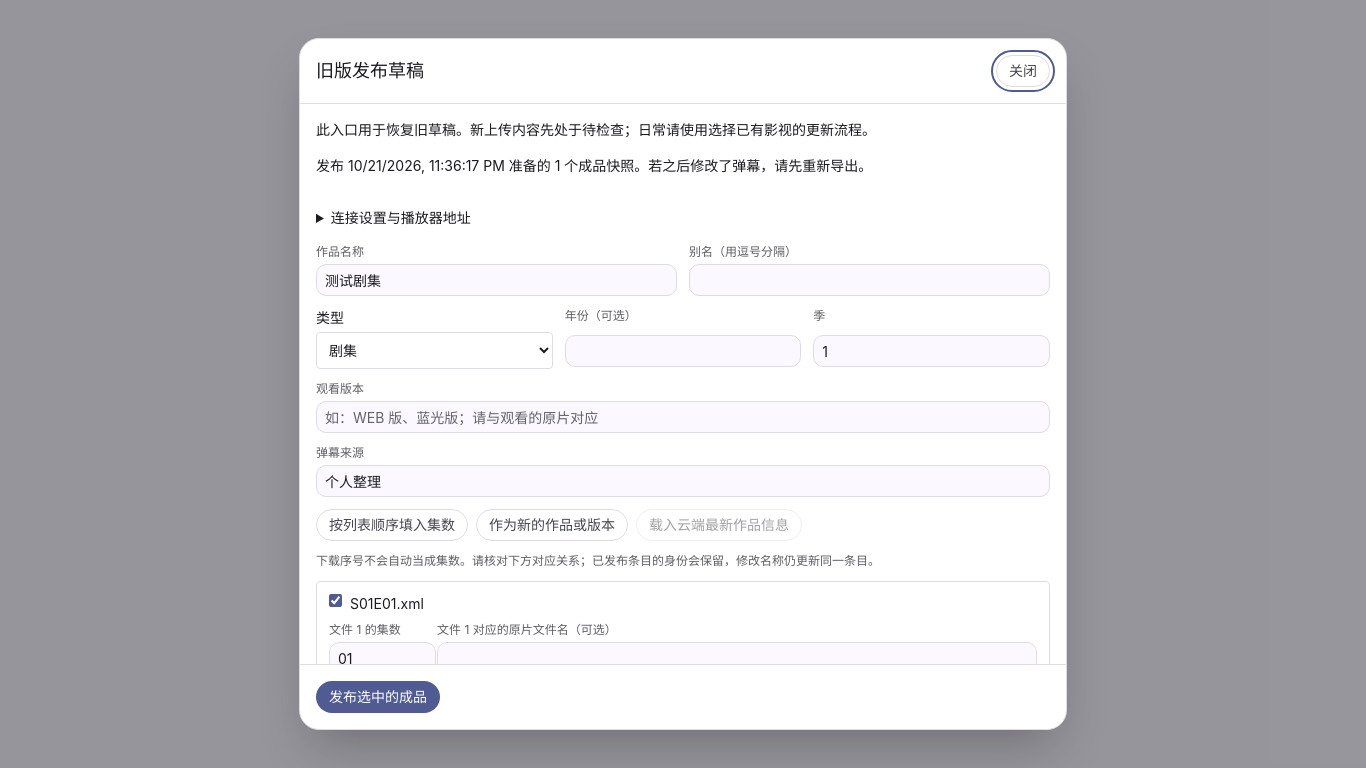
private library publication › prevents a second publish and closing while a file is in flight
Type "WEB" into the field labelled "观看版本" at (683, 417), box [316,401,1050,433]
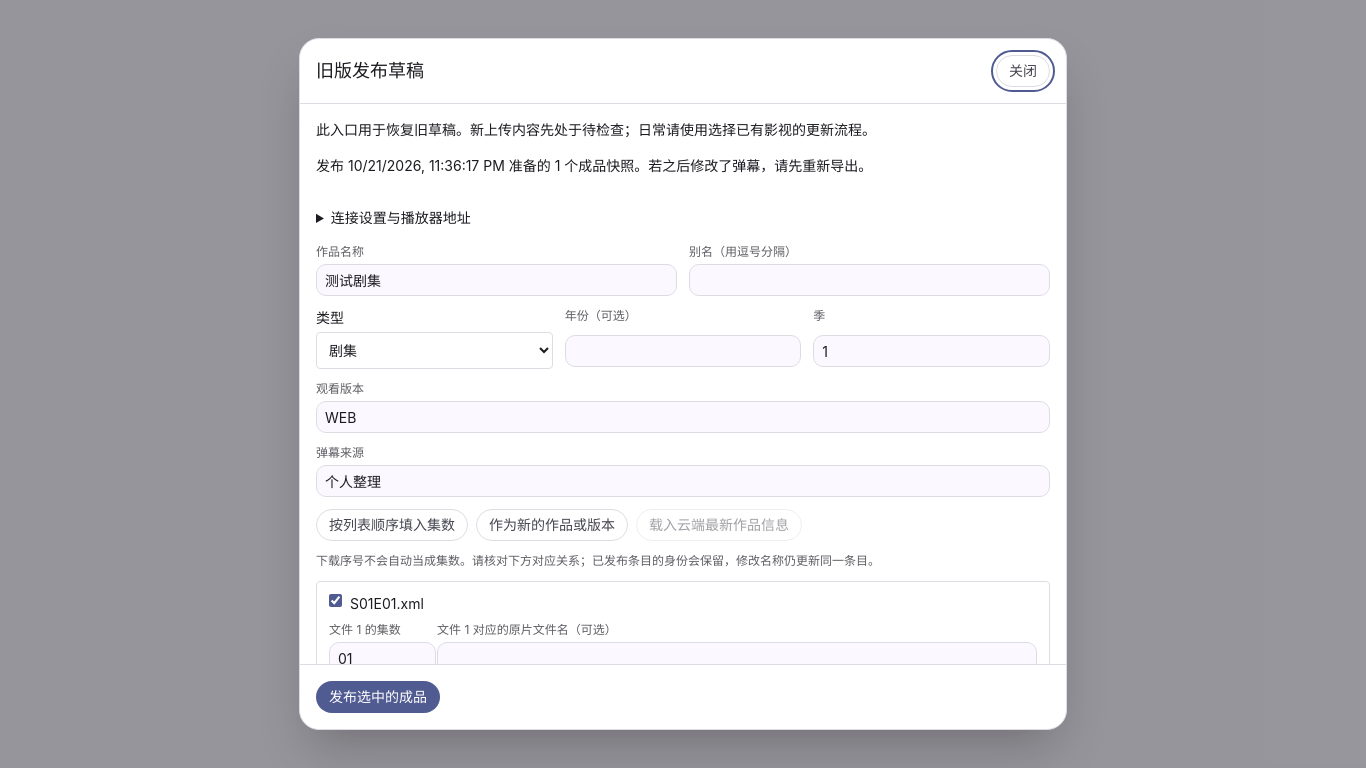
Click the button "发布选中的成品" at (378, 697), box [316,681,440,713]
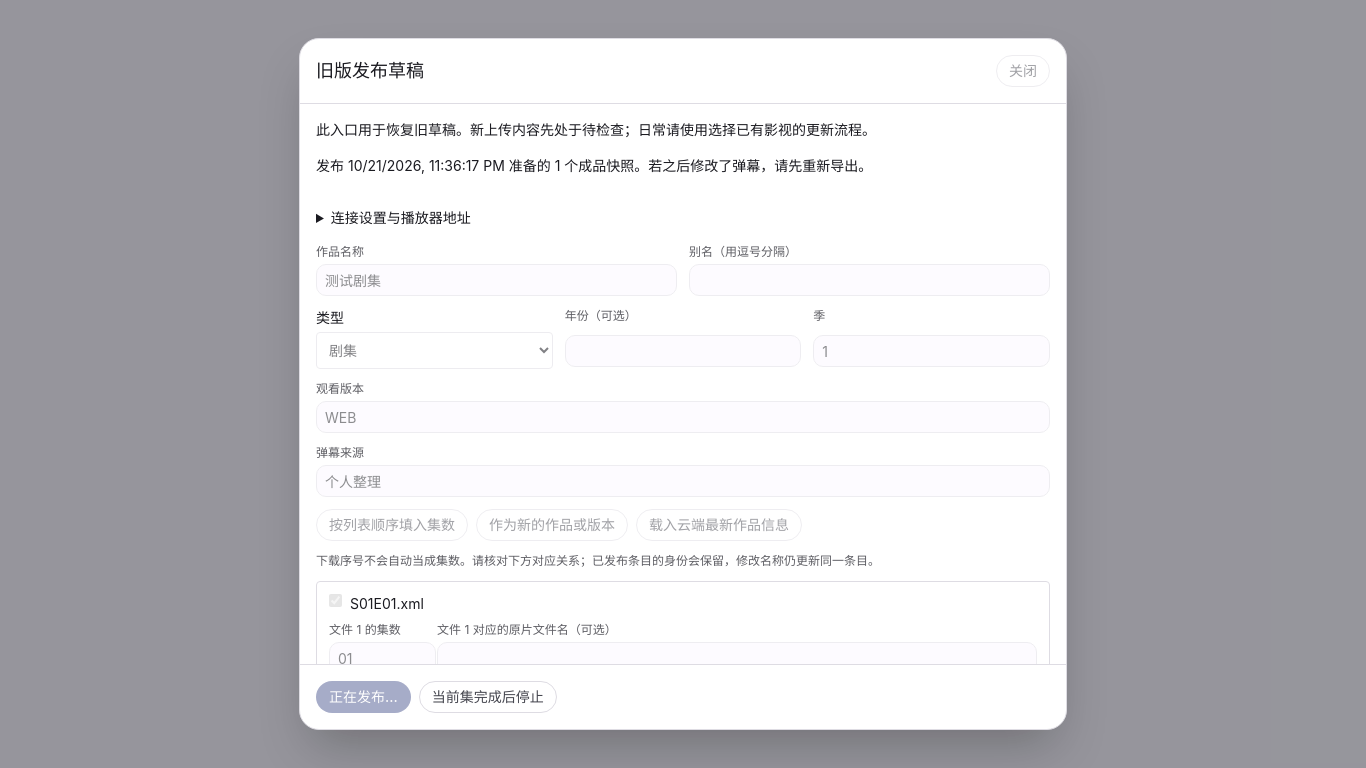
Expected: the button "正在发布…" is disabled, [316,681,411,713]
Press Escape
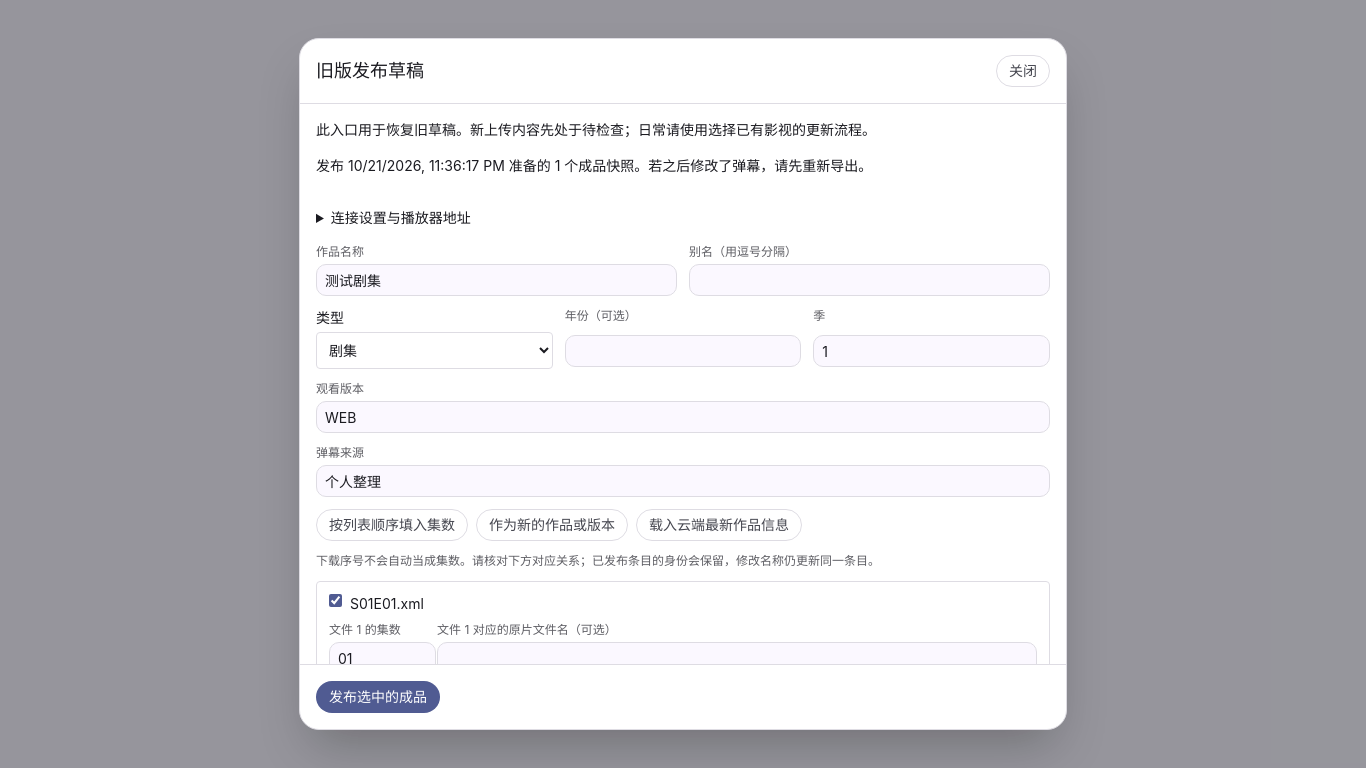
Expected: the button "关闭" is enabled, [996,55,1050,87]
